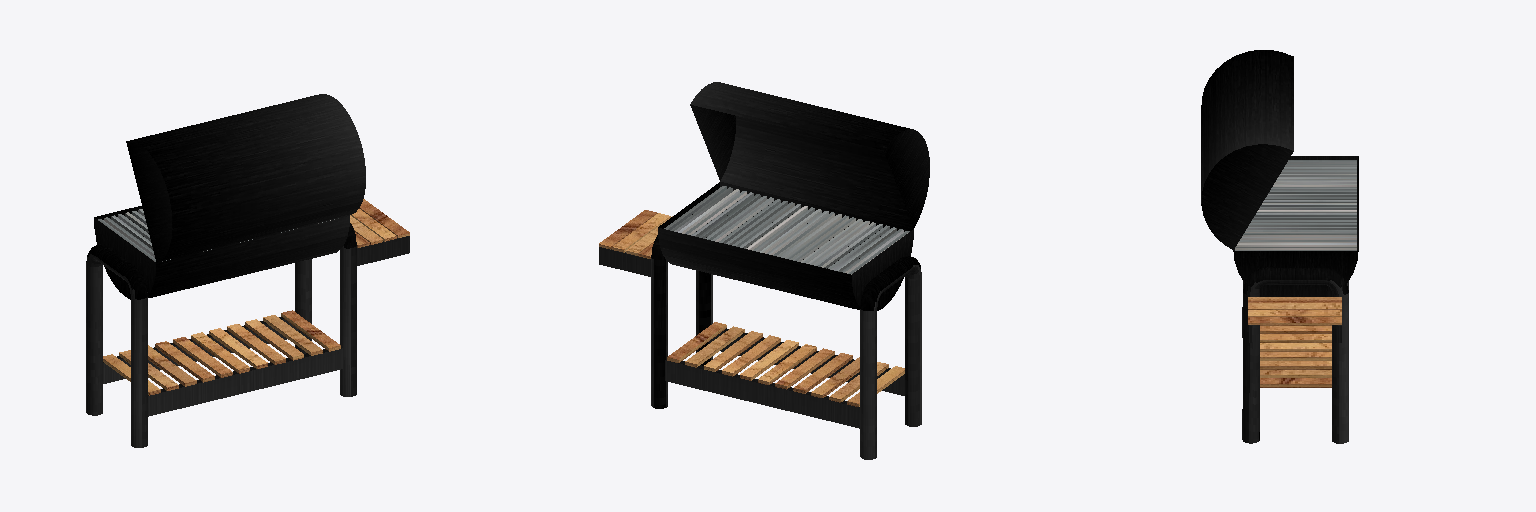
3 renders of one model, left to right at view 1: azimuth 30°, elevation 25°; view 2: azimuth 150°, elevation 25°; view 3: azimuth 270°, elevation 25°, orthographic.
Parts seen in each view (by area): view 1: parrilla2:Mesh; view 2: parrilla2:Mesh; view 3: parrilla2:Mesh.
Part boxes in pixels (left/top/right/bottom): parrilla2:Mesh: left=86, top=94, right=409, bottom=447; parrilla2:Mesh: left=599, top=82, right=929, bottom=459; parrilla2:Mesh: left=1201, top=50, right=1358, bottom=443.
Bounding box in the file's own units: 0.5363 × 0.5412 × 0.2636.
Materials: 3 (3 with a texture image).